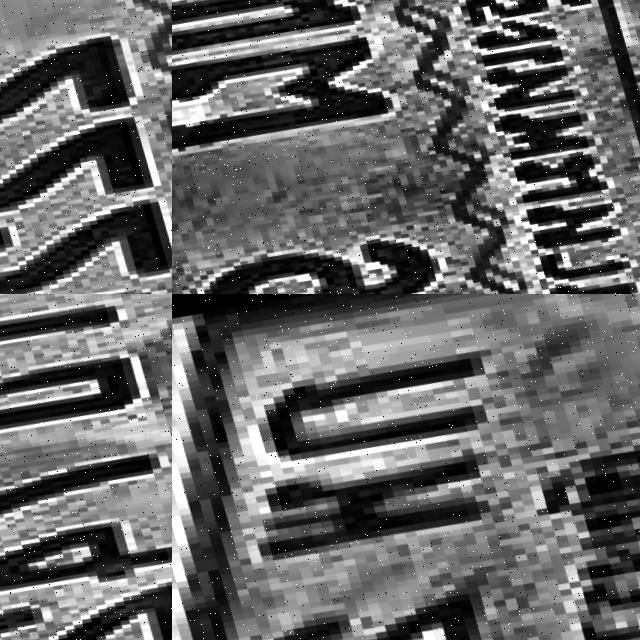license-plate: (172, 294, 640, 640), (172, 0, 640, 294), (0, 294, 172, 640), (0, 0, 172, 294)
